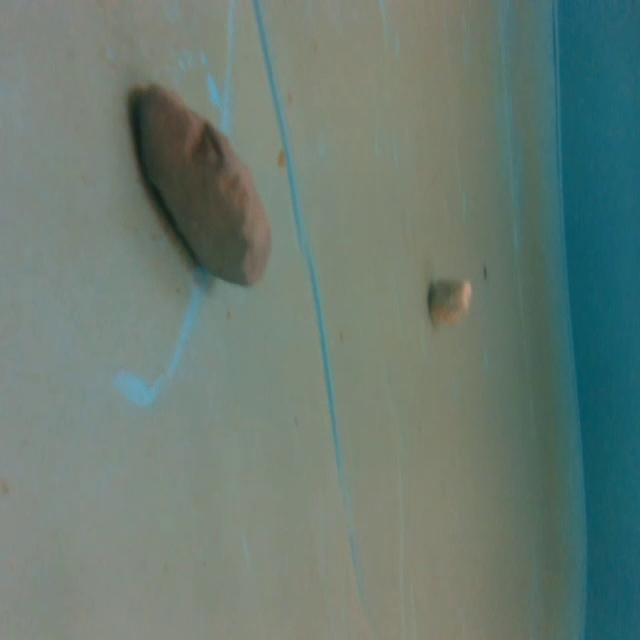rock: (127, 76, 283, 296), (421, 277, 476, 335)
